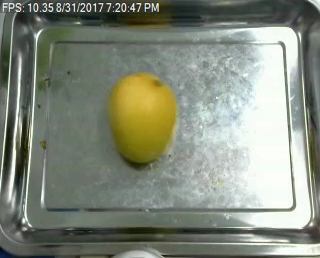Mango: (104, 70, 179, 164)
